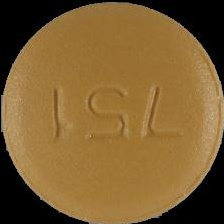0378-0751: (0, 0, 224, 224)
